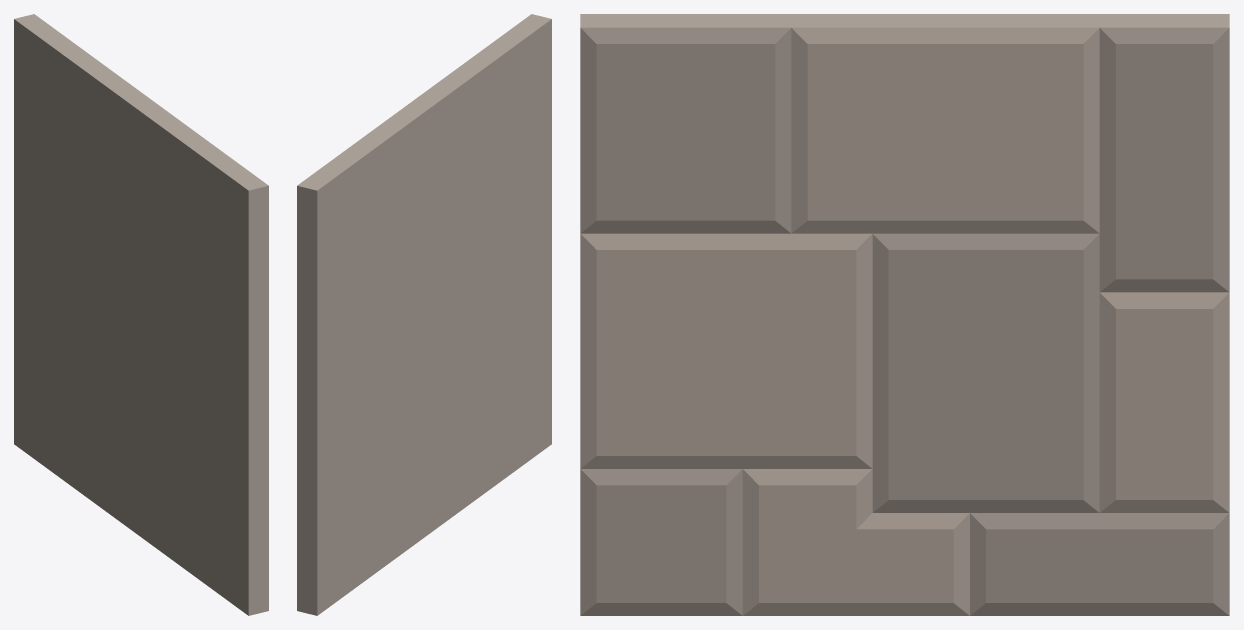
File: Stone_Wall_3.glb
3 views of the same model, side by side, from view 1: azimuth 30°, elevation 25°; view 2: azimuth 150°, elevation 25°; view 3: azimuth 270°, elevation 25° (orthographic). The views are drawn at different scales.
Visible parts, largest first — view 1: object1; view 2: object1; view 3: object1.
Boxes of the visible parts, x1,y1,x2,y2 form: object1: [14, 14, 268, 615]; object1: [297, 14, 551, 615]; object1: [580, 14, 1229, 615].
Size of the model in its own units: 0.0563 by 1 by 1.
